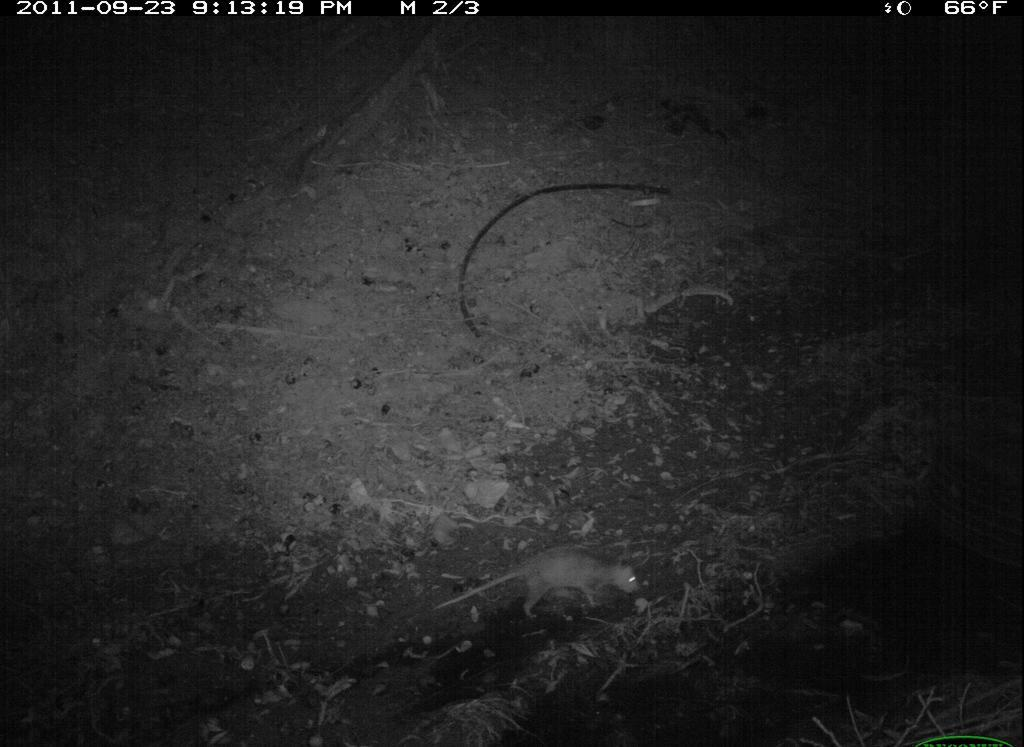opossum: (419, 537, 670, 653)
